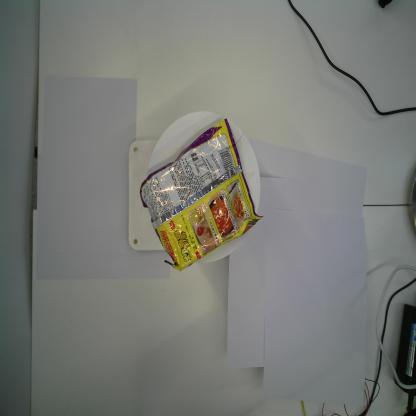Instant Noodles: (138, 116, 265, 272)
